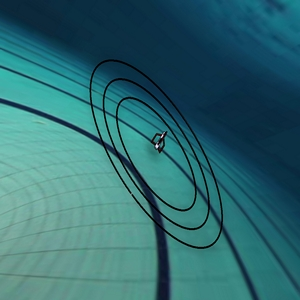circle: (82, 47, 236, 264)
submarine: (146, 128, 173, 163)
